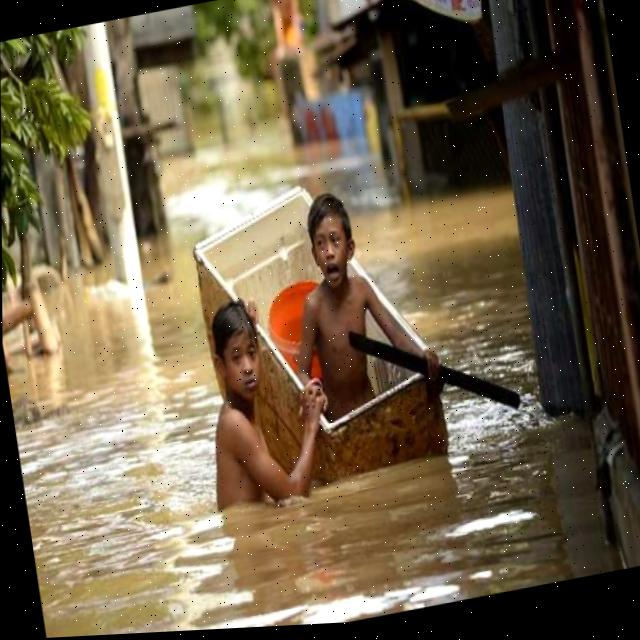civilian: (174, 284, 334, 519), (268, 179, 410, 421)
